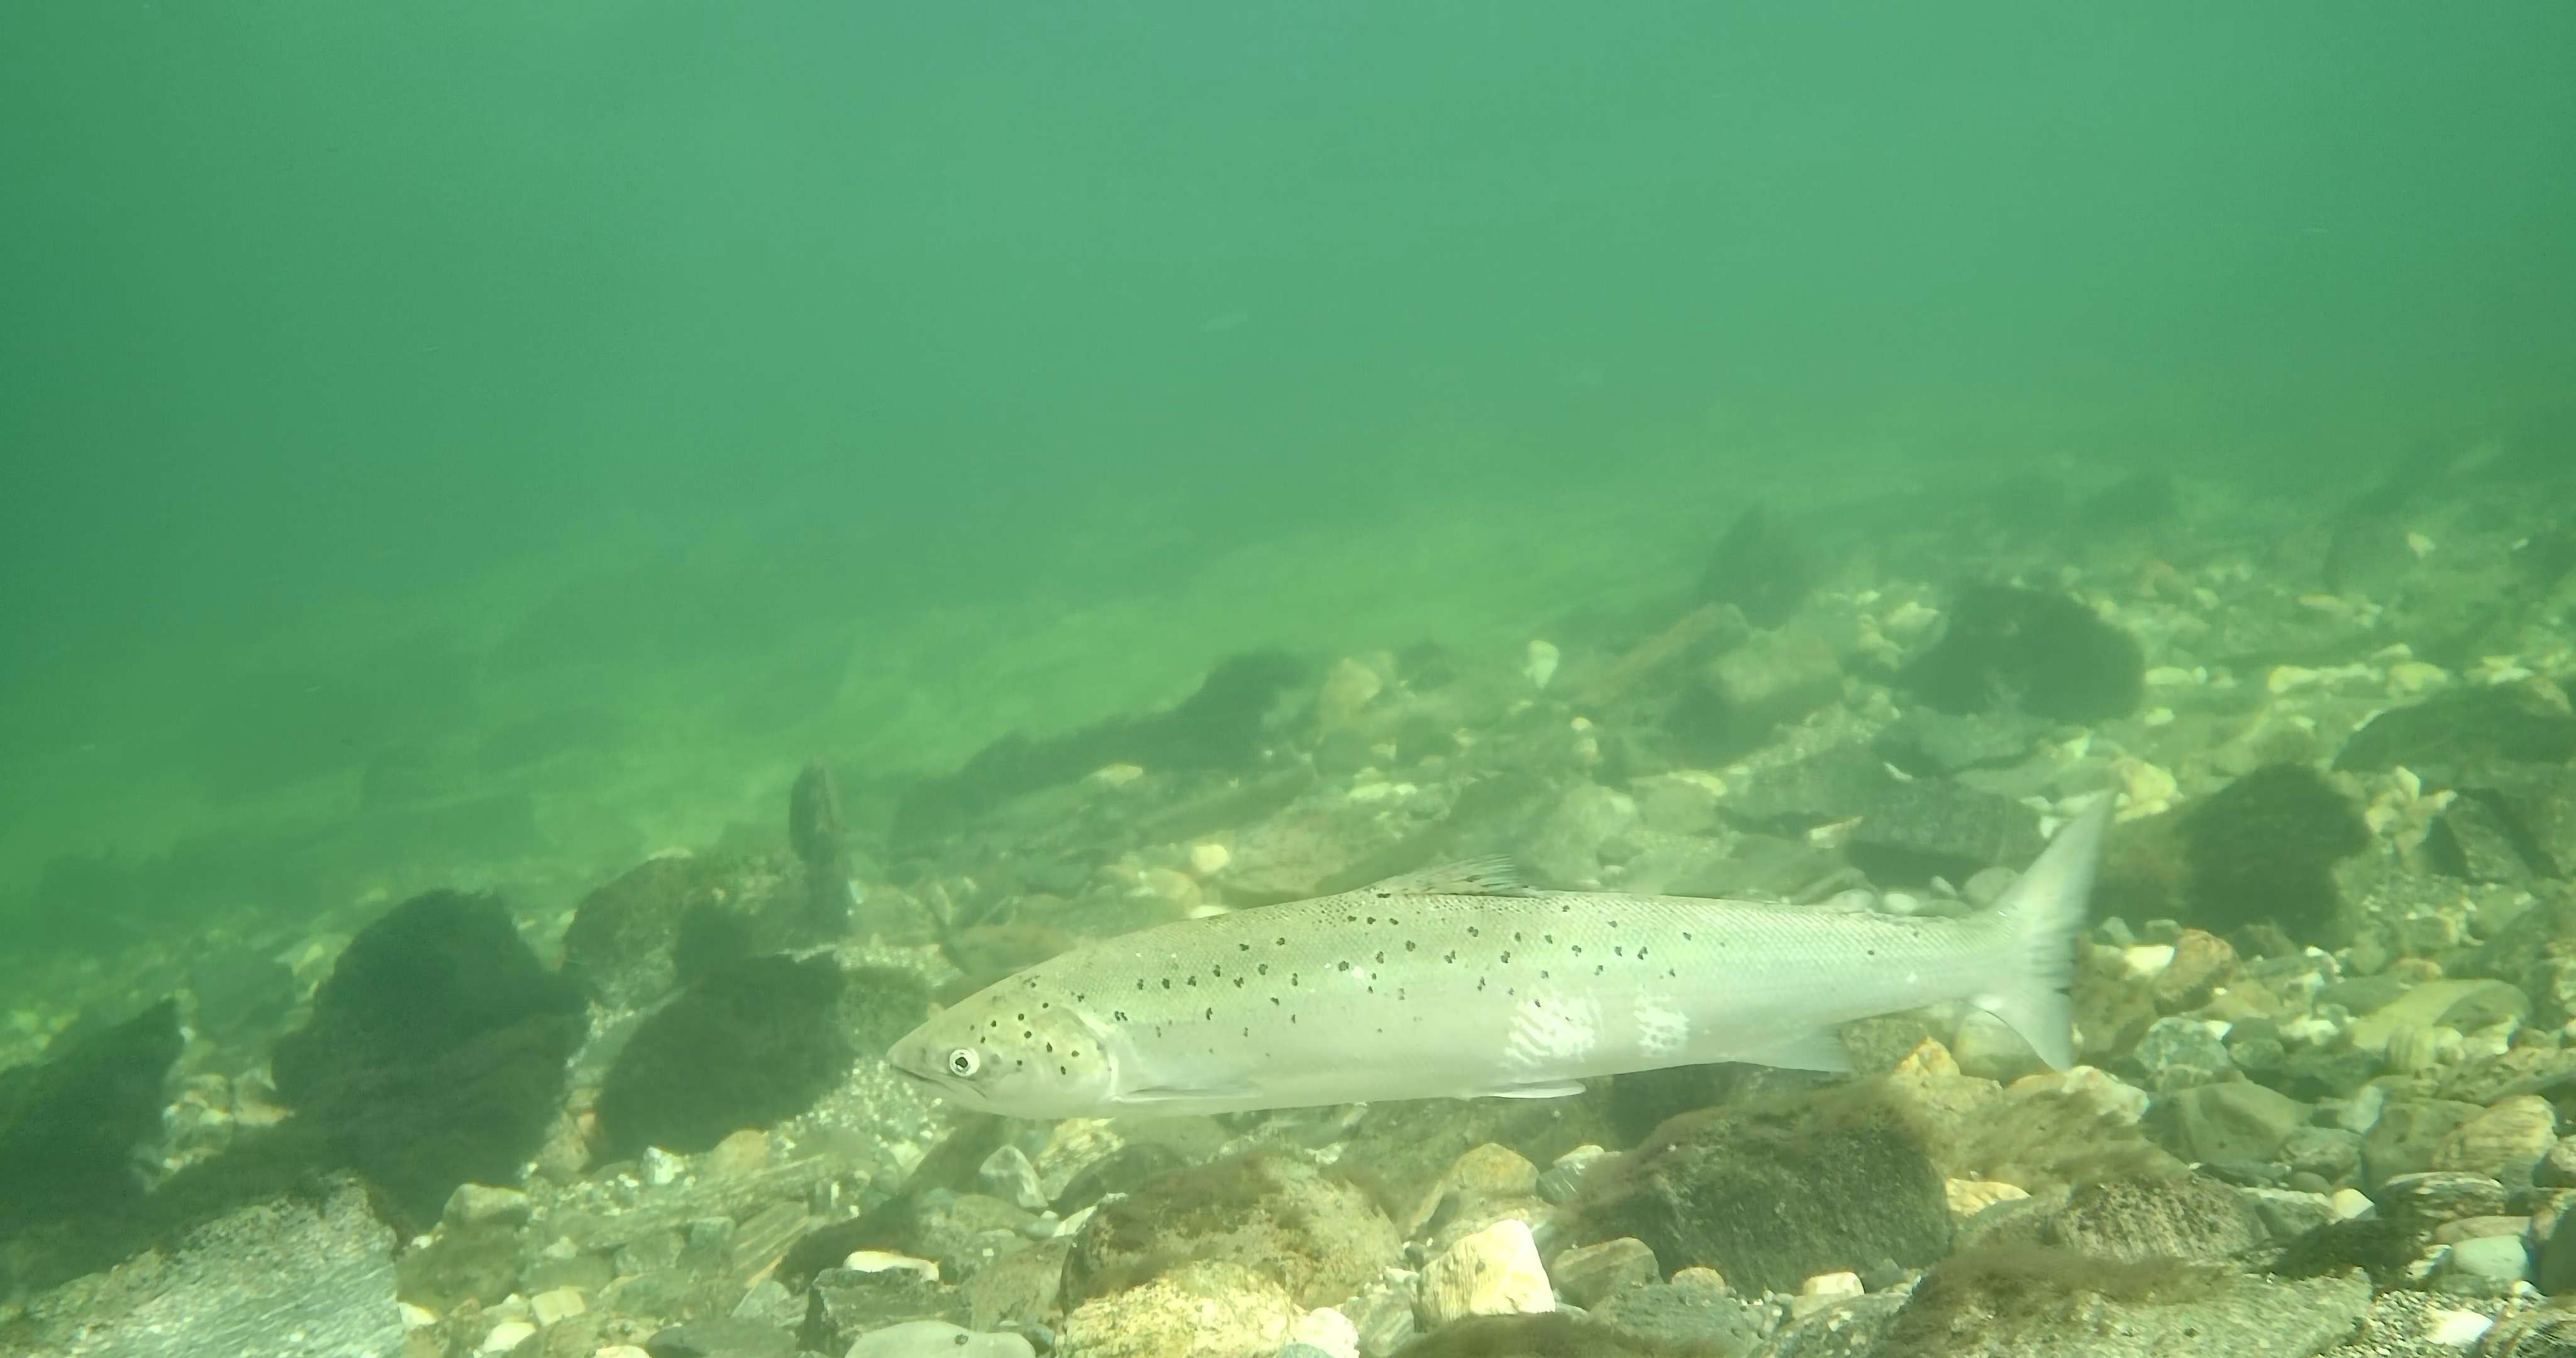salmon: (884, 785, 2121, 1123)
